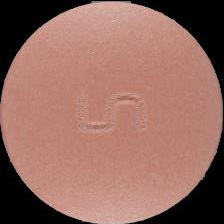13668-133: (0, 0, 224, 224)
